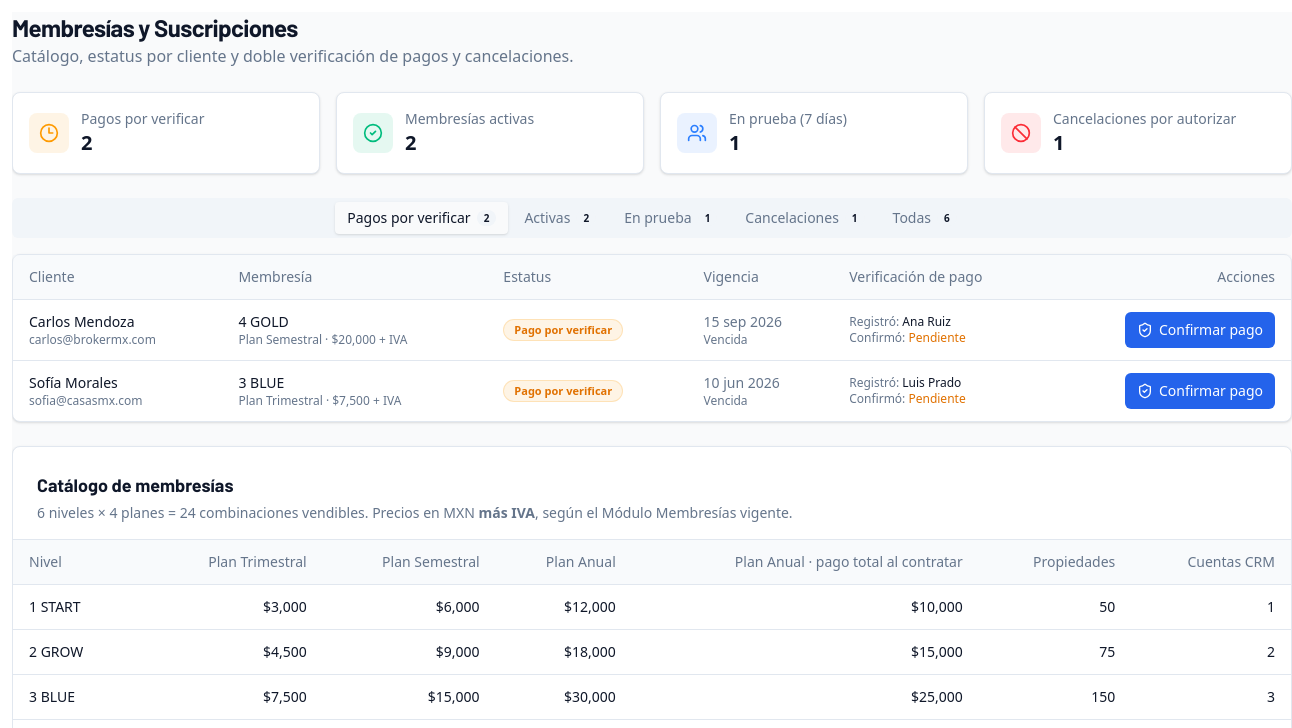
Test: <AdminMembresiasPage /> › solicitar una cancelación suspende, no cancela, y pide segunda firma
The image size is (1292, 728).
What coordinates should you click on to do the following:
click the tab "Activas 2"
I would click on:
 (560, 218)
Its box is [512,202,608,234].
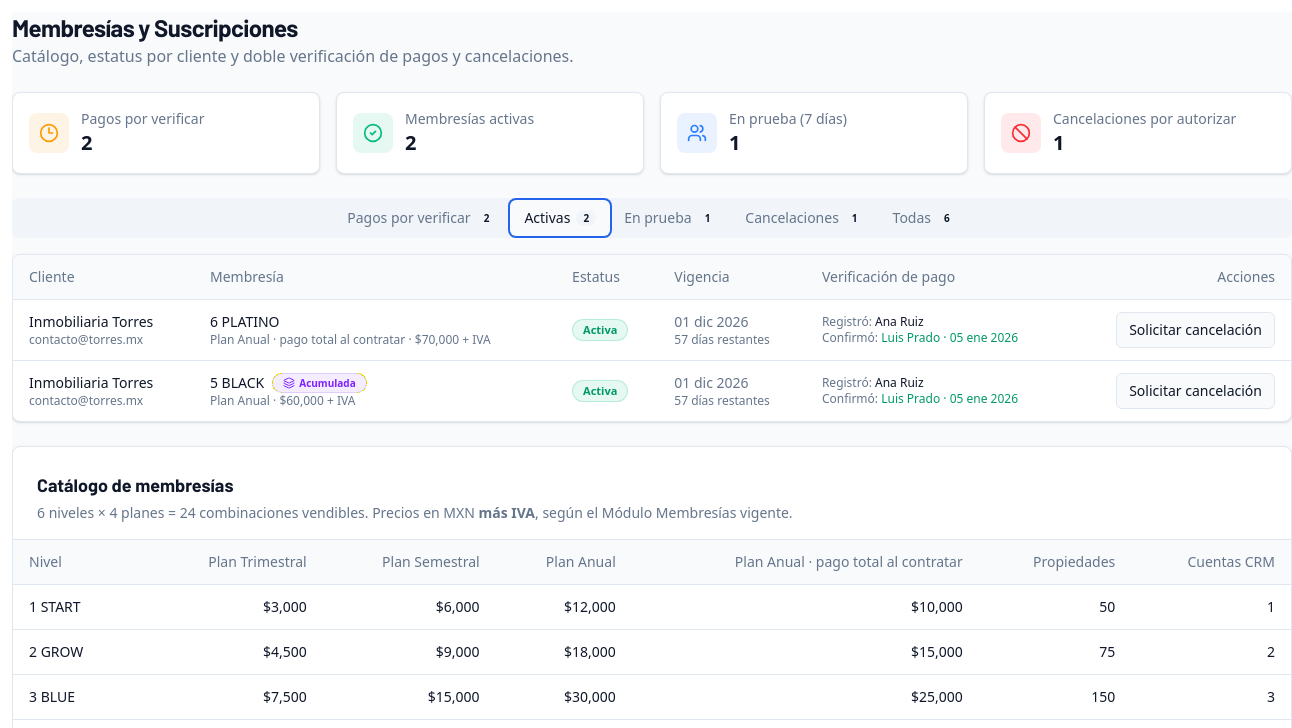
What coordinates should you click on to do the following:
click the 1st button "Solicitar cancelación"
I would click on:
 (1196, 330)
Its box is [1116,312,1275,348].
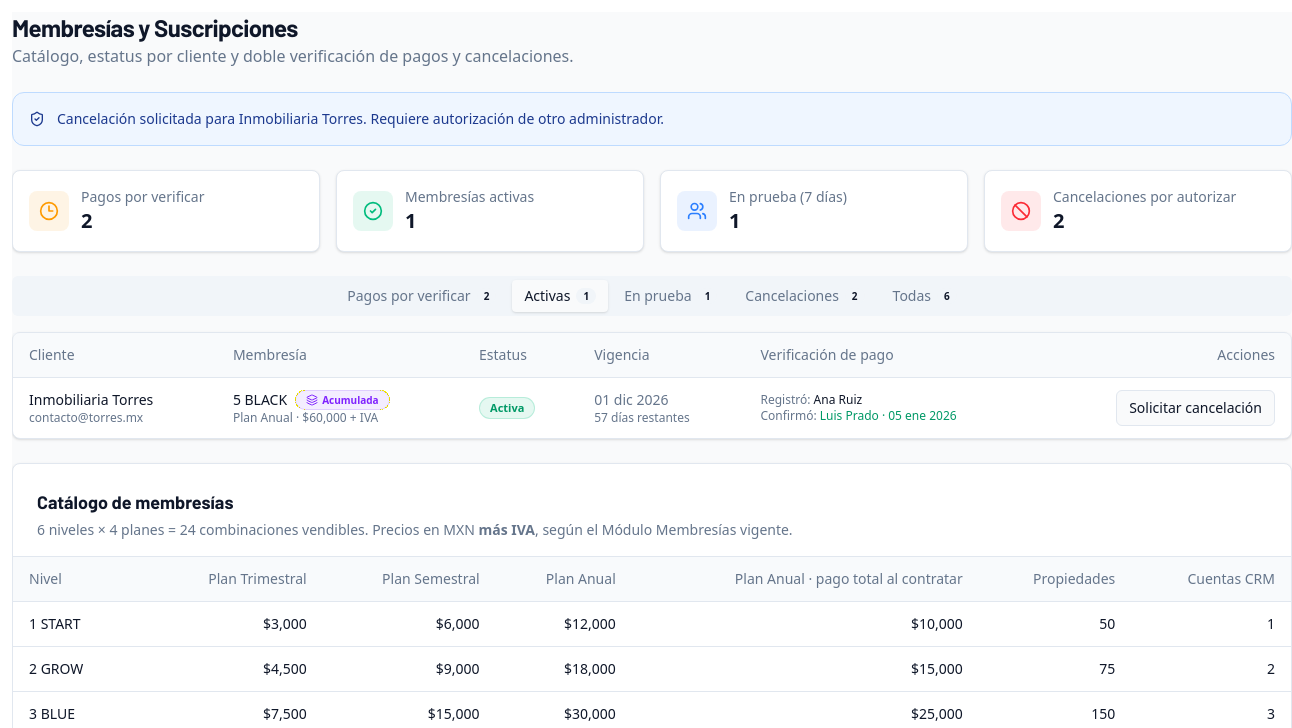
Check: the message shows "Requiere autorización de otro administrador", box [57,109,664,128]
Note: Y el mismo admin no puede autorizarla.
What coordinates should you click on to do the following:
click the tab "Cancelaciones 2"
I would click on:
 (805, 296)
Its box is [733,280,877,312].
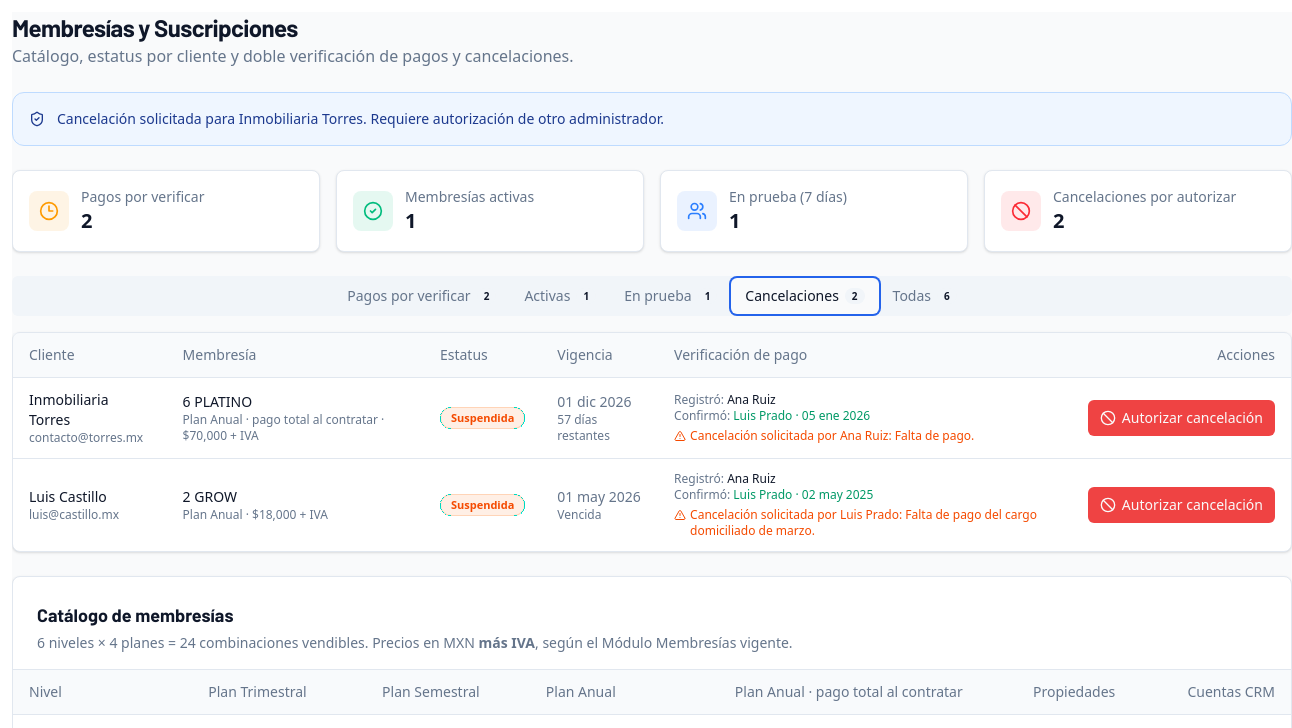
What coordinates should you click on to do the following:
click the button "Autorizar cancelación" in the row of "contacto@torres.mx"
I would click on:
 (1181, 418)
Its box is [1088,400,1275,436].
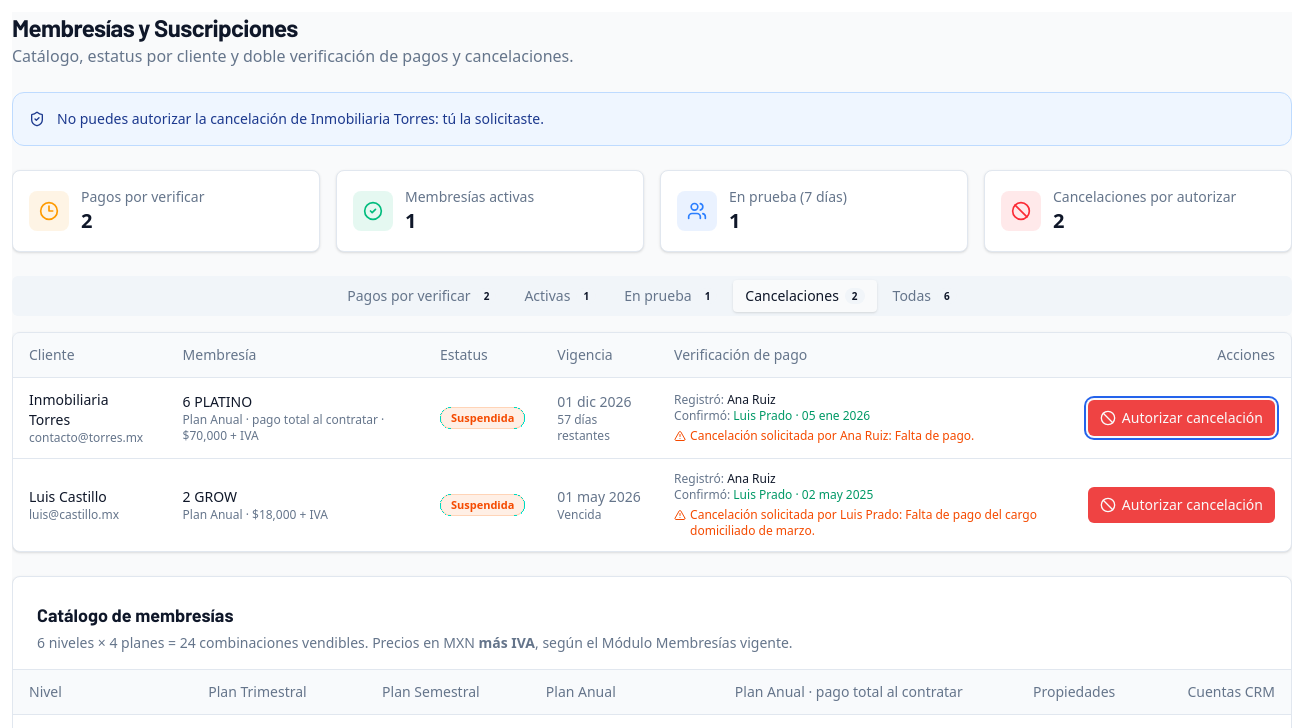
Check: the message shows "tú la solicitaste", box [57,109,544,128]
